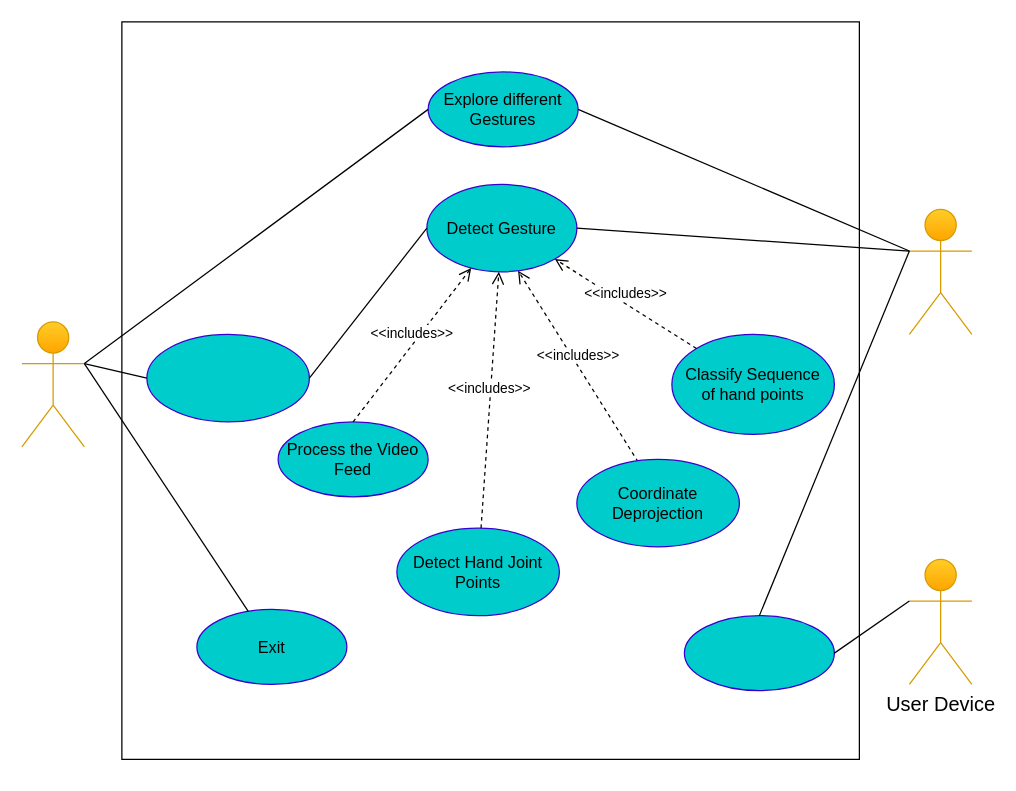
Some shapes in this 1016 by 791 pixel diagram are drawn without their labels. The box of each missing label's shape, as (x1, y1, x2, y2) in pixels:
Machine Learning Backend: (908, 208, 972, 334)
Predicted Label: (683, 614, 834, 691)
Select the gesture to be performed: (146, 333, 309, 422)
User: (21, 321, 84, 447)
